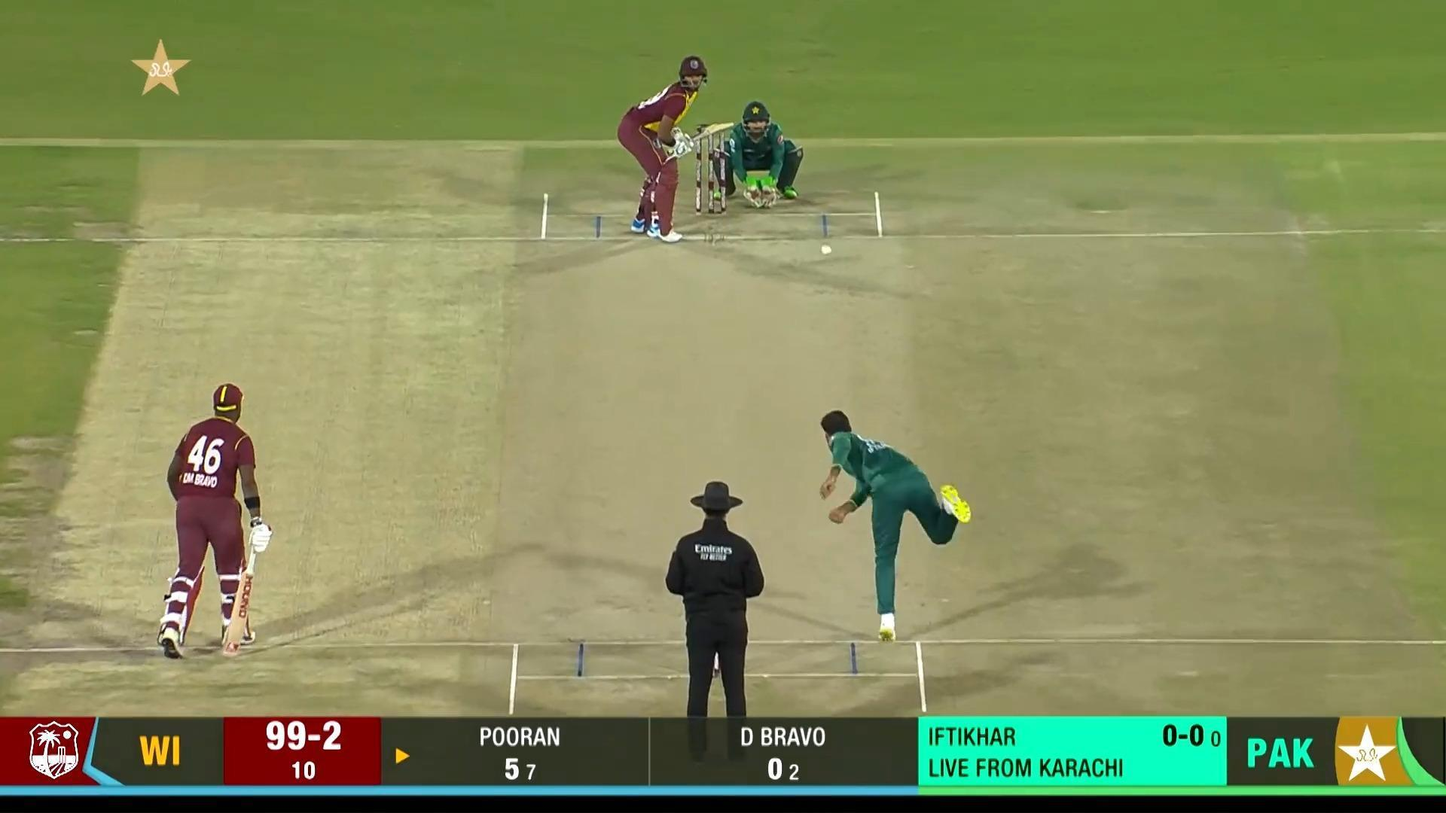BM 1: (617, 56, 734, 243)
BO: (819, 409, 973, 645)
